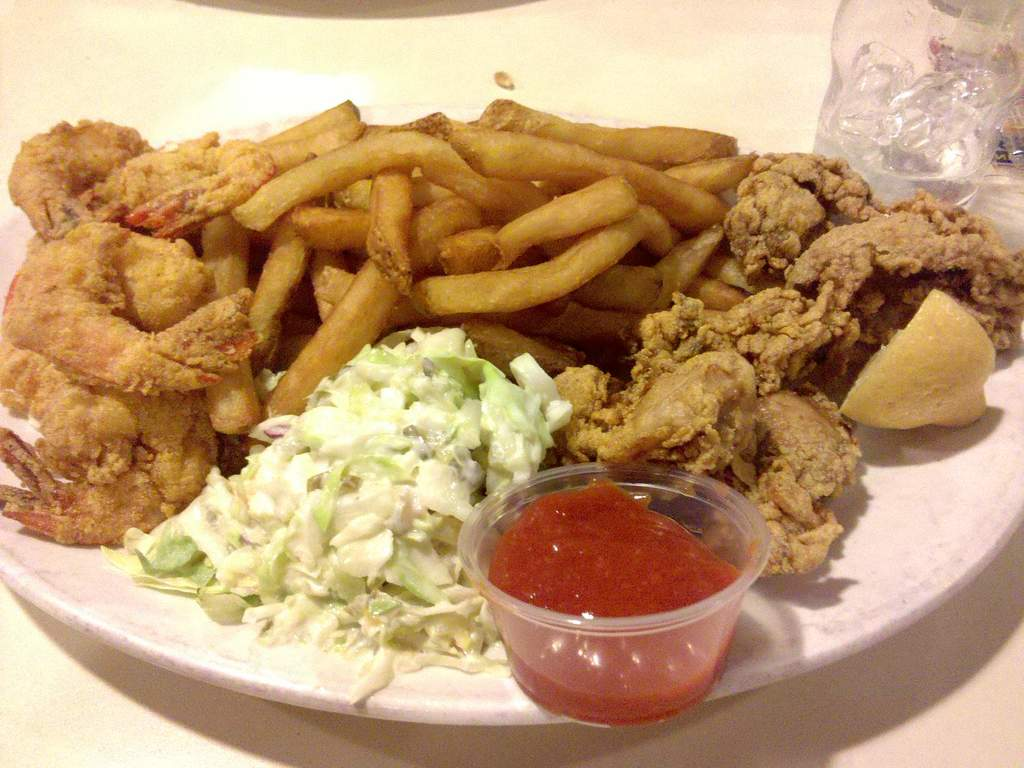French fries: (186, 88, 753, 473)
